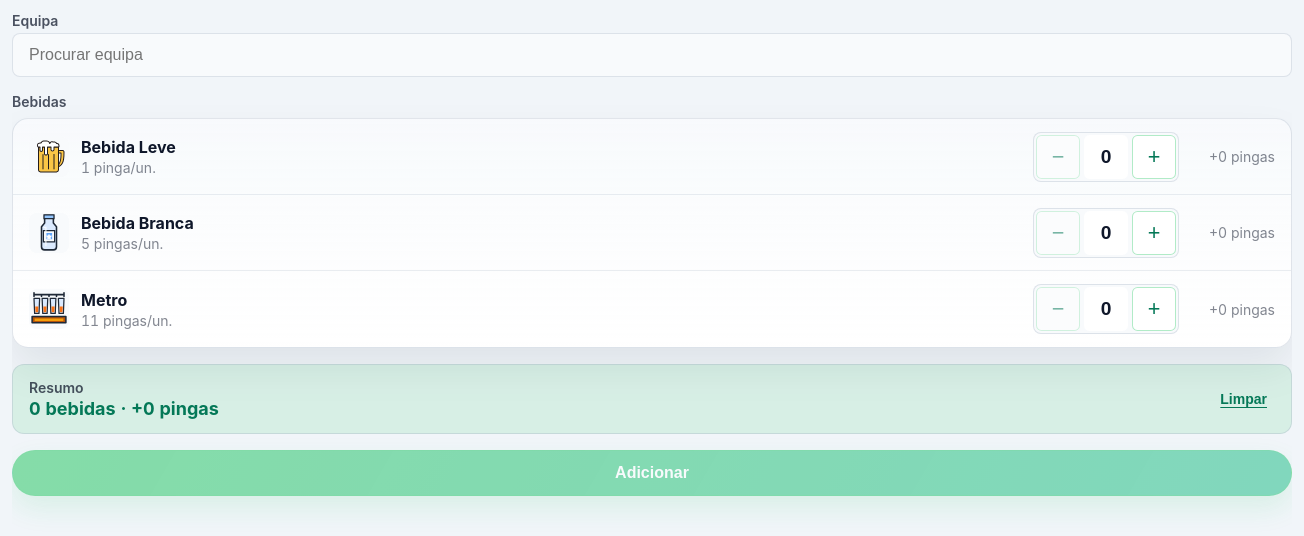
Test: AddPingasPanel drinks workflow › sends only positive selections and resets after a successful submission
In the dropdown named "Procurar equipa": (652, 55) [12,33,1292,77], type "Alfa"
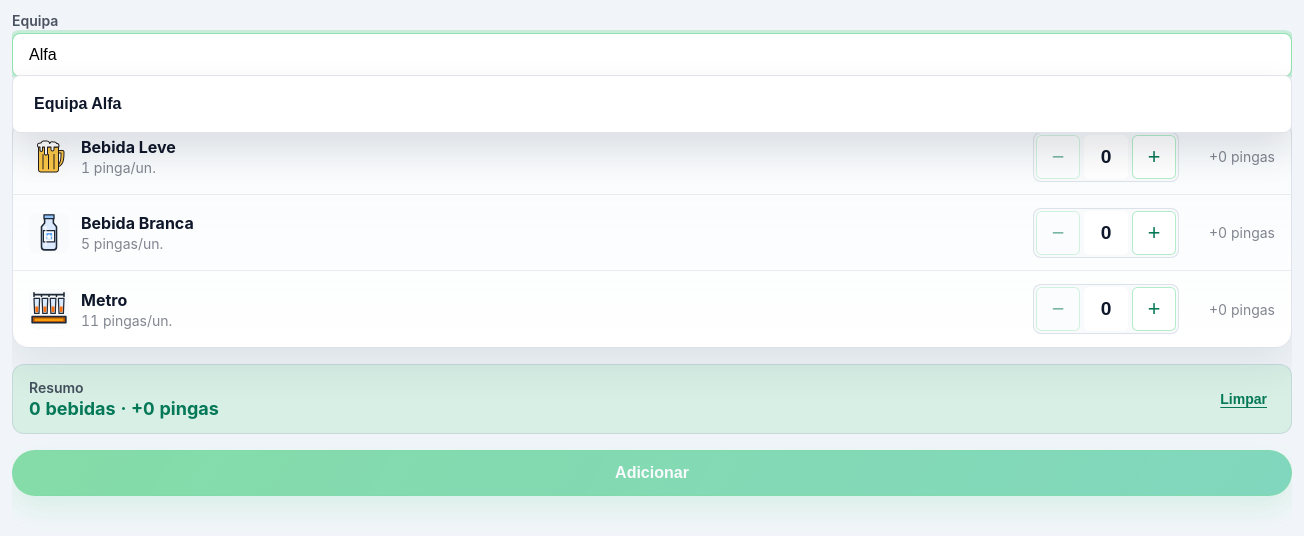
Click the option "Equipa Alfa": (78, 104) [17,80,1287,128]
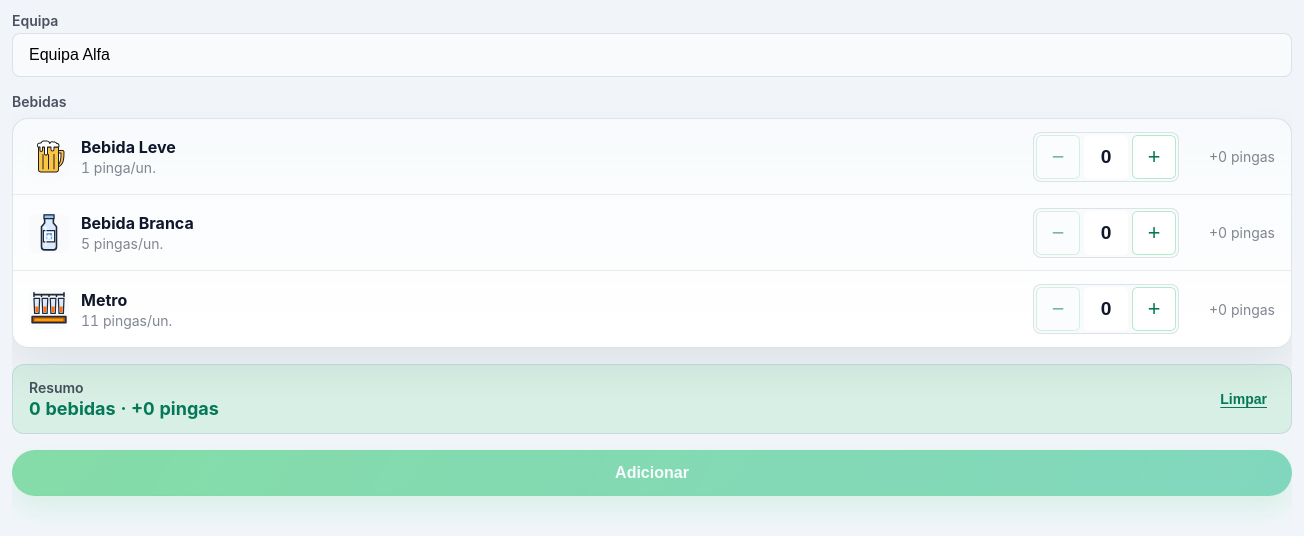
Click the button named "Aumentar quantidade de Bebida Leve": (1154, 156) [1132,134,1176,178]
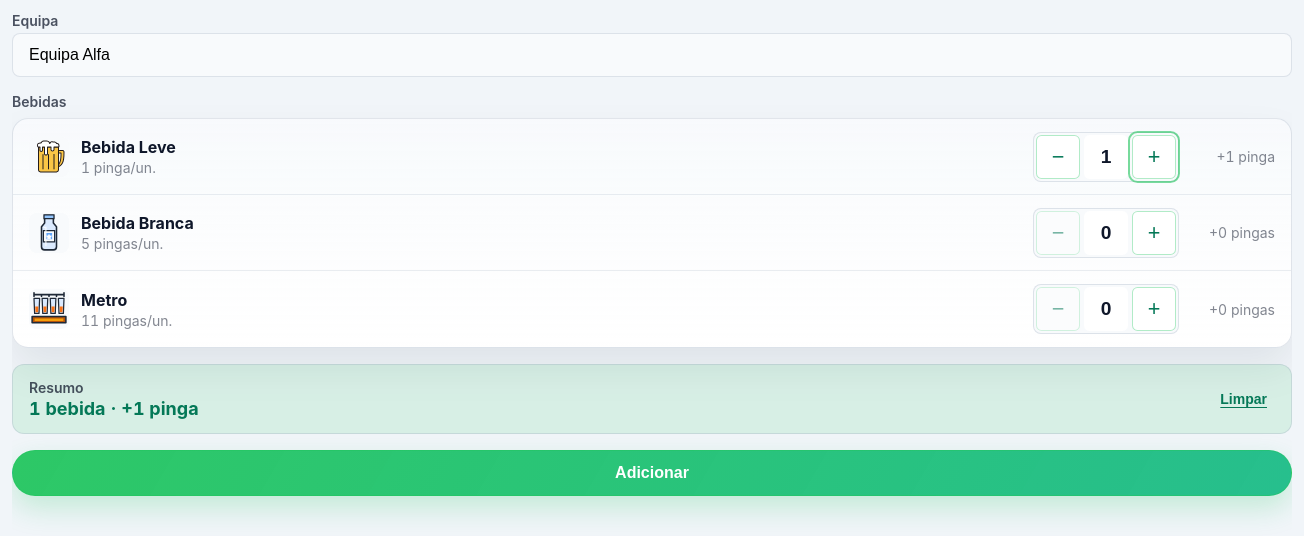
Click the button named "Aumentar quantidade de Bebida Branca": (1154, 232) [1132,210,1176,254]
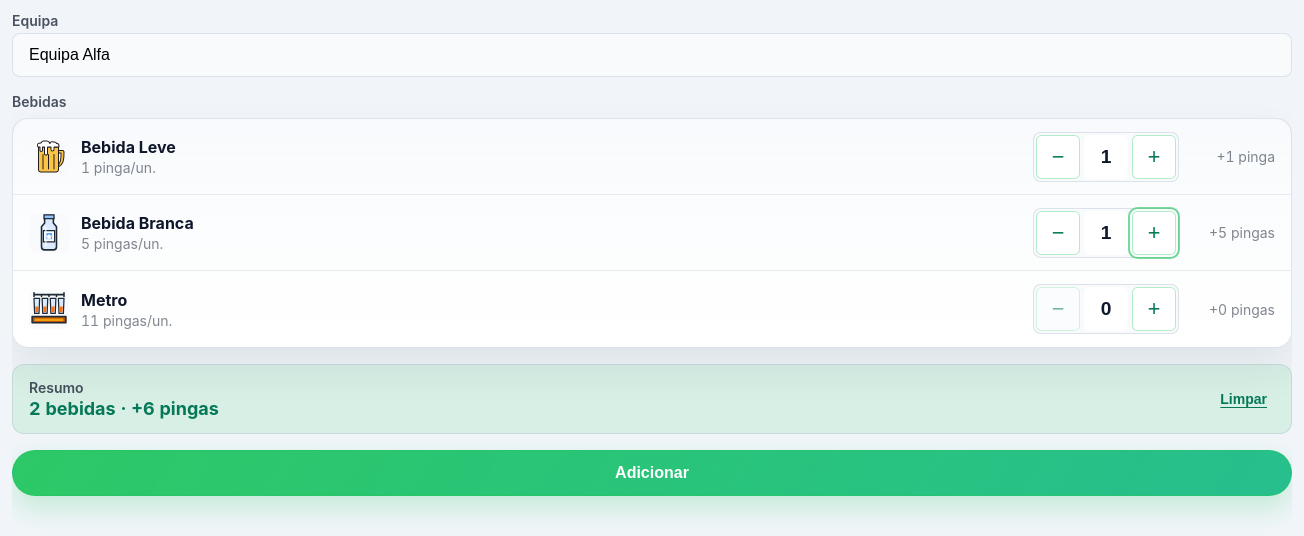
Click the button "Adicionar": (652, 473) [12,450,1292,496]
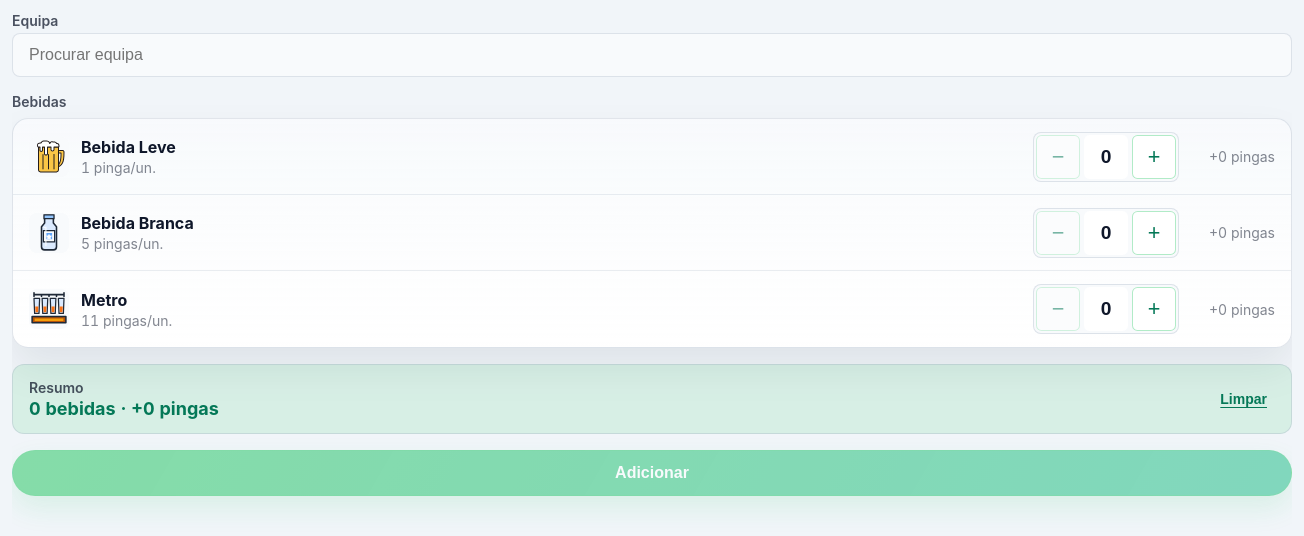
Result: the button "Adicionar" is disabled at [12,450,1292,496]
Result: the dropdown named "Procurar equipa" is empty at [12,33,1292,77]
Result: the number field named "Quantidade de Bebida Branca" in the row of "Bebida Branca" holds "0" at [1084,210,1128,254]
